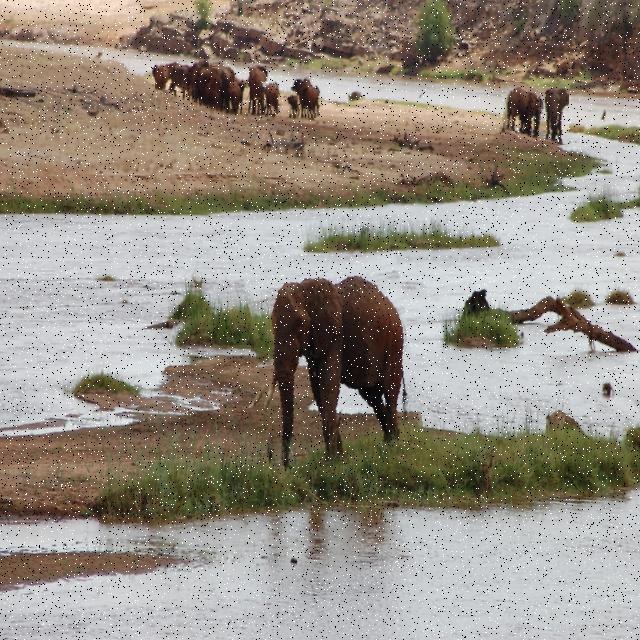elephant: (251, 258, 420, 470), (500, 82, 542, 149), (531, 80, 569, 145), (155, 57, 187, 90), (210, 58, 237, 91), (302, 78, 322, 118), (201, 67, 222, 104), (262, 79, 281, 114), (250, 63, 263, 100), (227, 80, 242, 109), (293, 73, 309, 100), (285, 87, 301, 113)
